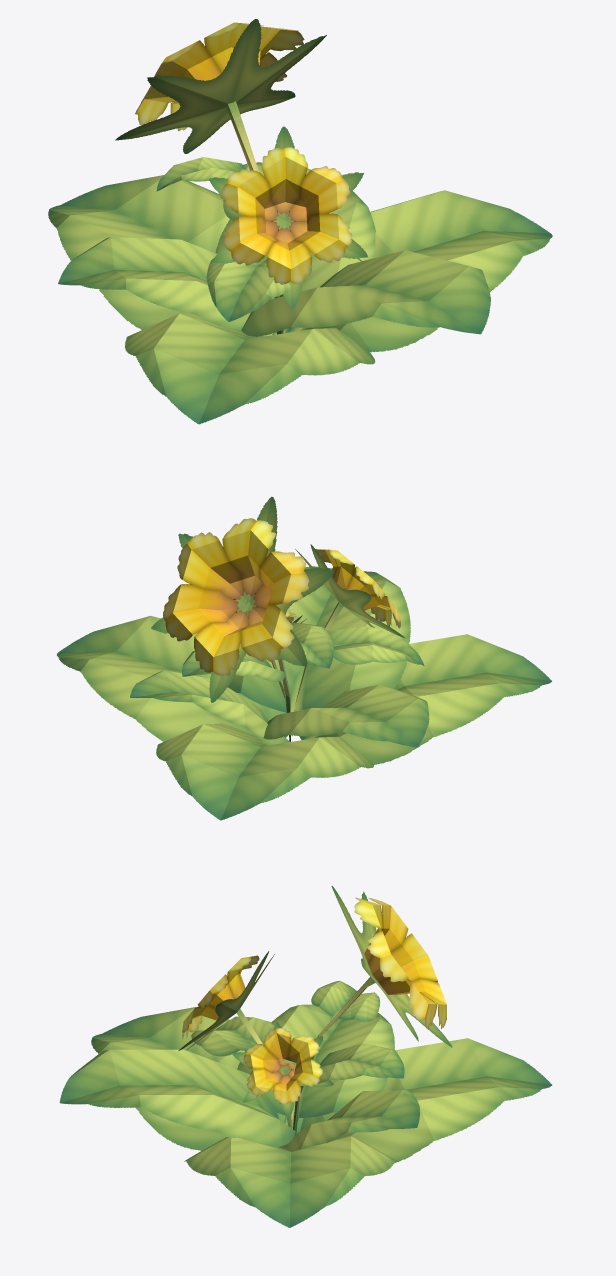
Rendered from VEG0310003.fbx.
The picture shows the model from 3 angles, top to bottom: view 1: azimuth 30°, elevation 25°; view 2: azimuth 150°, elevation 25°; view 3: azimuth 270°, elevation 25°; orthographic projection. The views are drawn at different scales.
Visible parts, largest first — view 1: smVEG0310003; view 2: smVEG0310003; view 3: smVEG0310003.
Part boxes in pixels (x1,y1,x2,y2): smVEG0310003: (48, 19, 552, 424); smVEG0310003: (57, 496, 551, 820); smVEG0310003: (59, 886, 552, 1227).
Size of the model in its own units: 88.3 by 52.08 by 94.12.
1 material, 1 textured.
